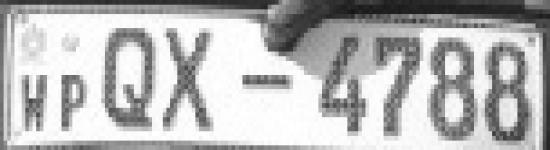-: (236, 68, 298, 98)
4: (369, 30, 428, 144), (316, 28, 371, 139)
8: (427, 28, 482, 146), (480, 33, 535, 145)
P: (54, 68, 92, 140)
Q: (96, 20, 159, 136)
W: (19, 68, 54, 138)
X: (158, 18, 218, 138)
